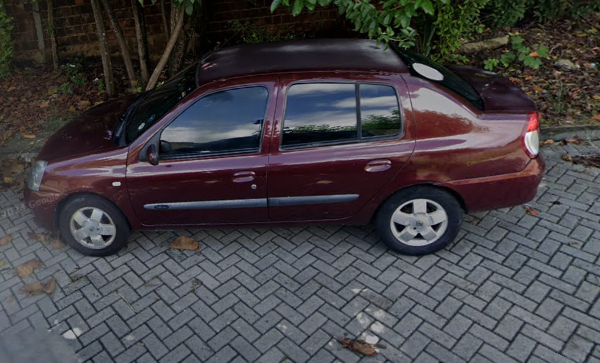car: (20, 36, 547, 255)
